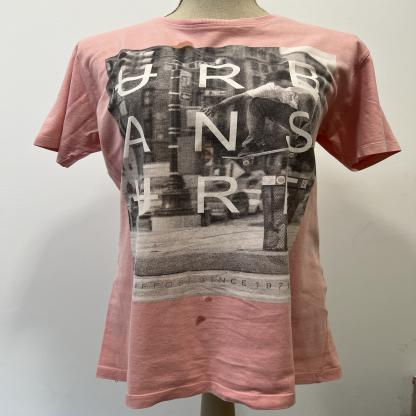stain: (192, 139, 216, 167), (169, 39, 199, 55), (192, 82, 211, 98), (194, 313, 208, 327), (202, 295, 216, 303)
